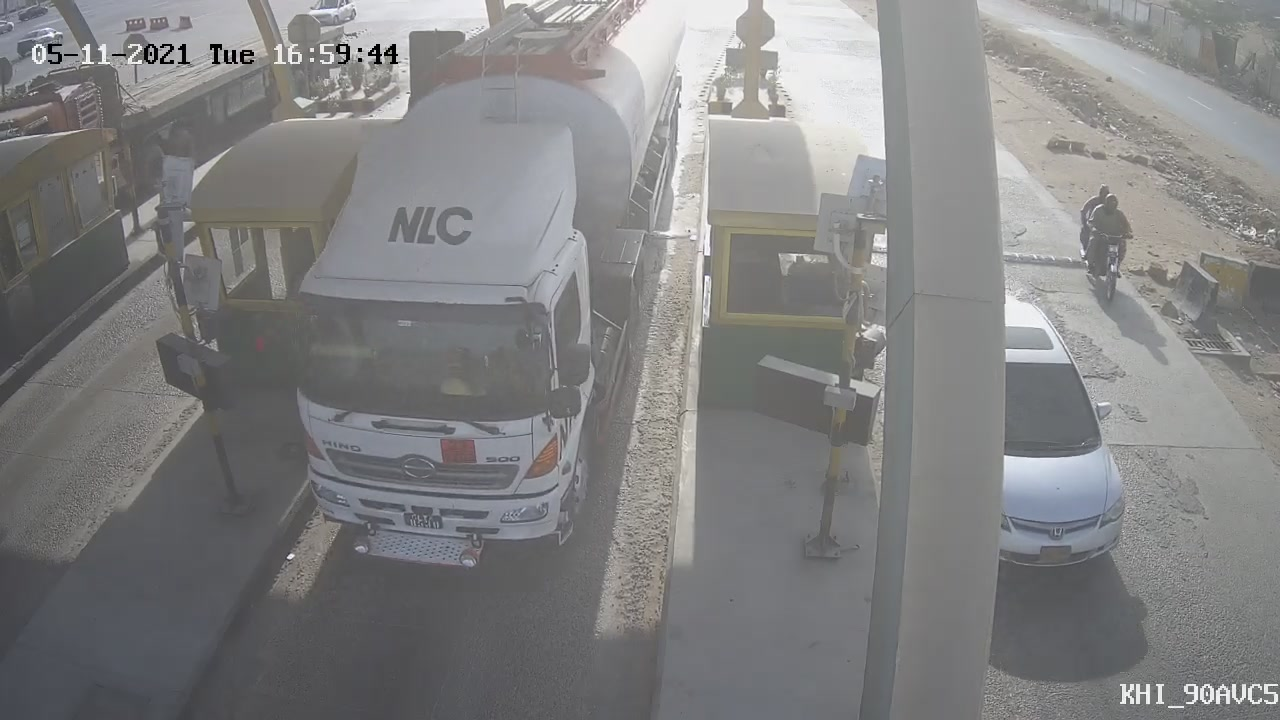F6: (224, 1, 711, 591)
